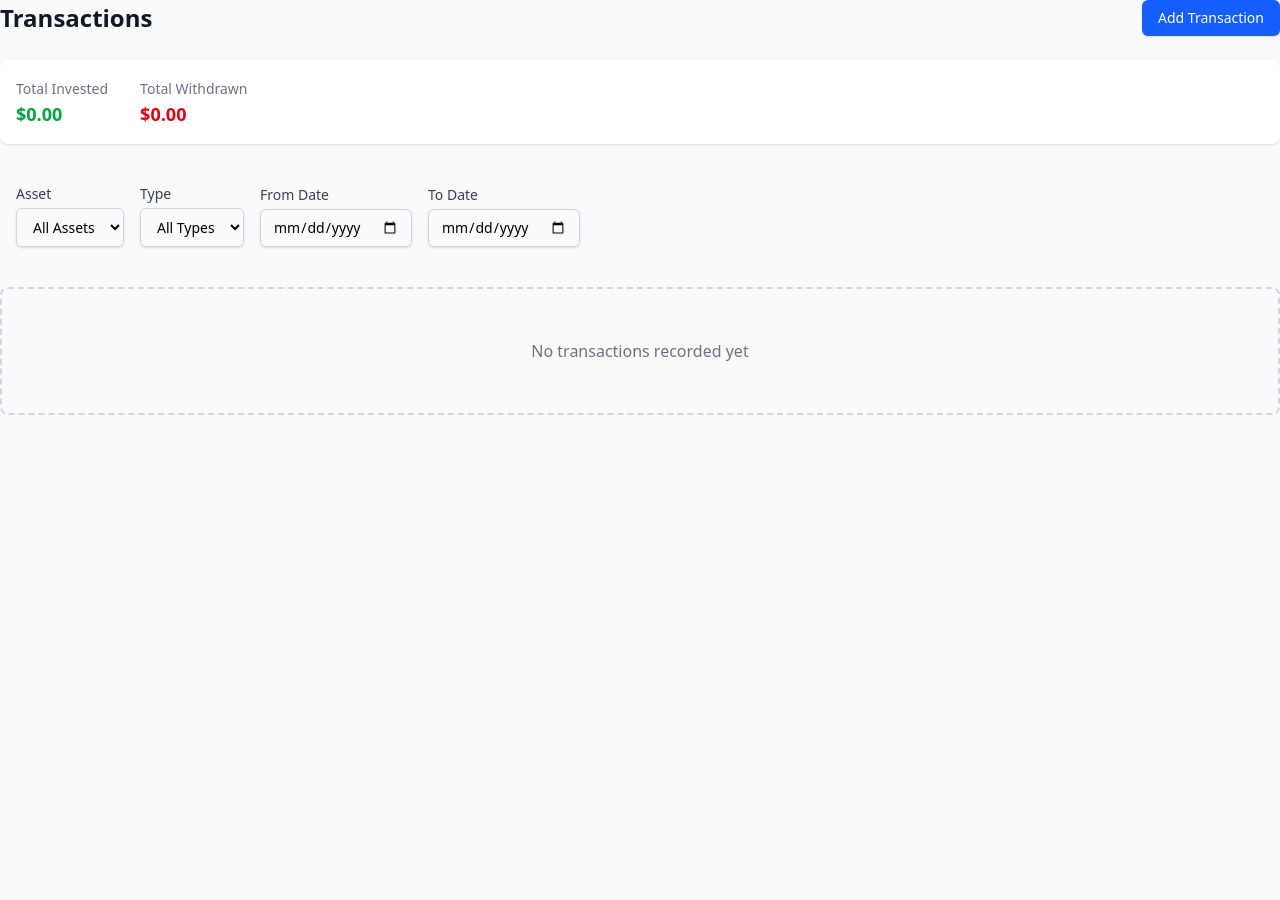
Test: TransactionsPage › should open create modal when Add Transaction is clicked
Click the button "Add Transaction": (1211, 18) [1142,0,1279,36]
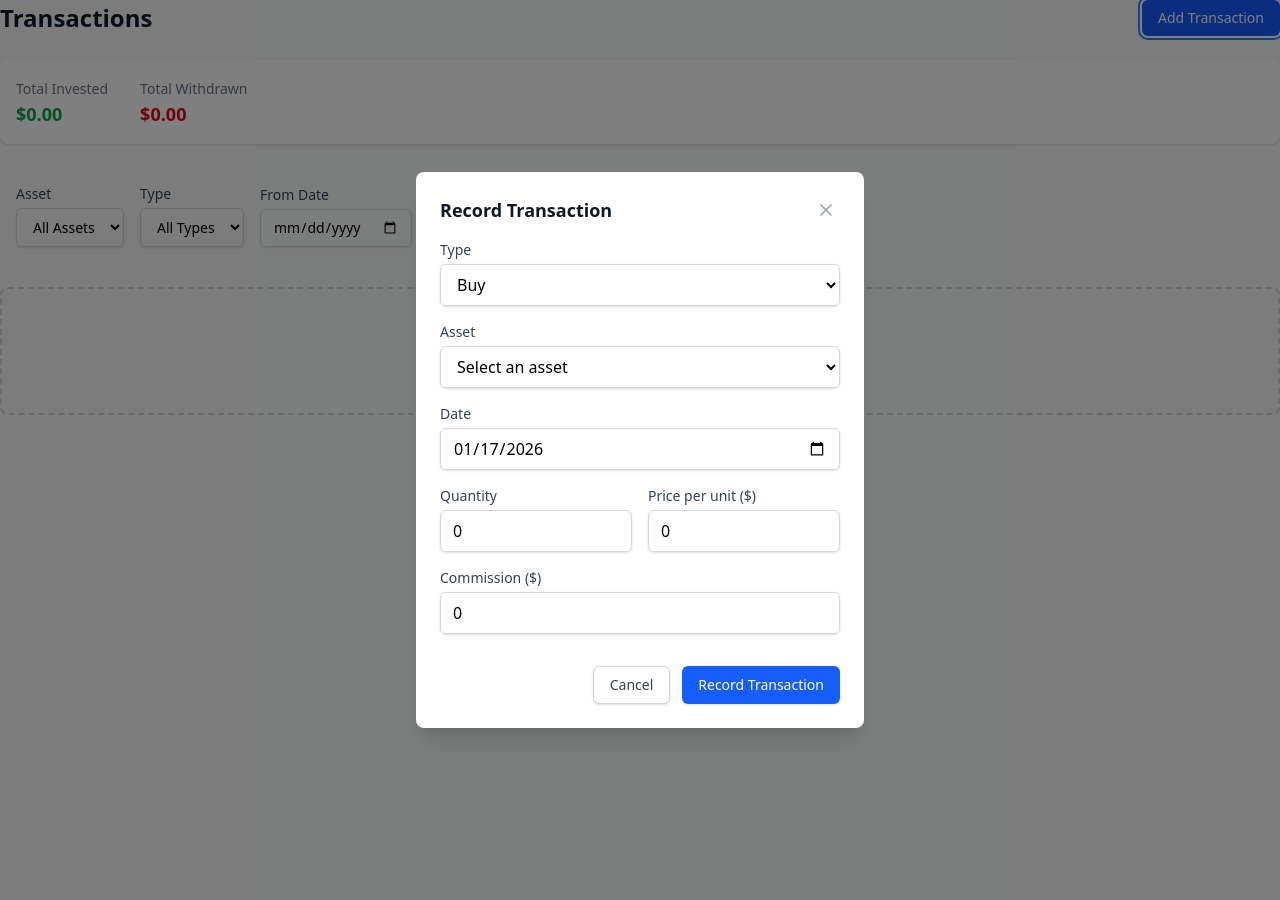
Check: the dialog is shown
Check: the heading "Record Transaction" is shown, box [440,196,612,224]
